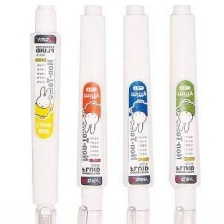correction_fluid: (164, 2, 201, 224), (73, 2, 109, 223), (27, 2, 62, 224), (119, 3, 154, 224)
